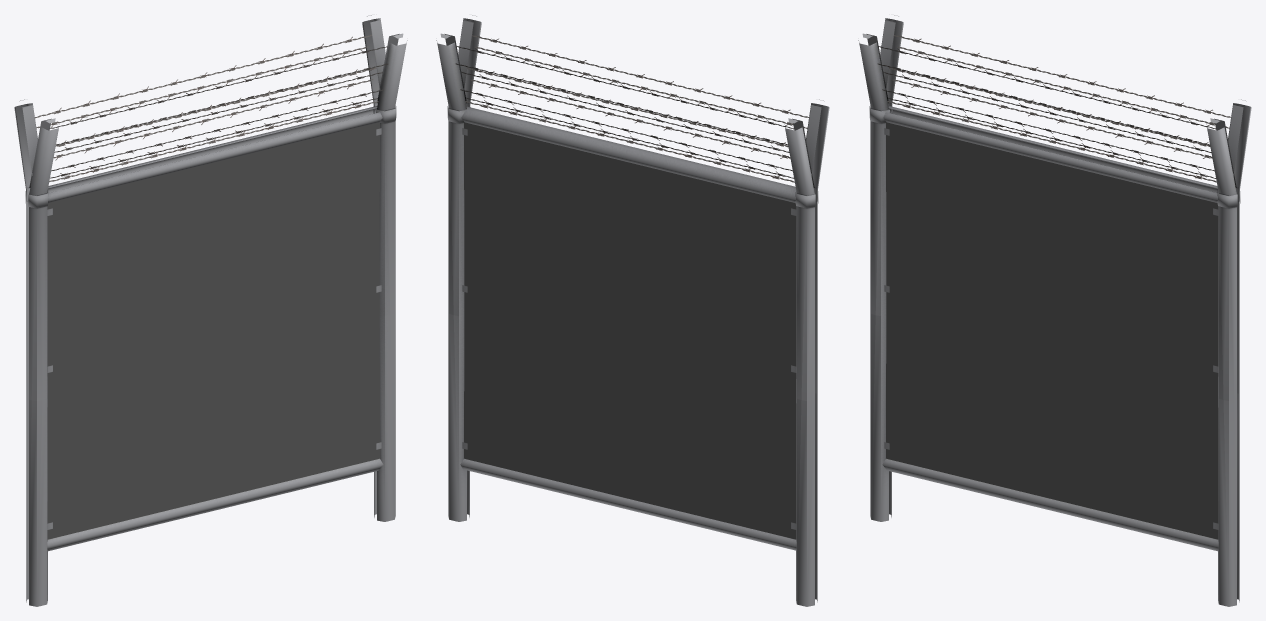
The model's file is fence chain wire A.fbx.
3 renders of one model, left to right at view 1: azimuth 30°, elevation 25°; view 2: azimuth 150°, elevation 25°; view 3: azimuth 330°, elevation 25°, orthographic.
Visible parts, largest first — view 1: fence chain wire A; view 2: fence chain wire A; view 3: fence chain wire A.
Part boxes in pixels (bbox=[...]): fence chain wire A: bbox=[14, 15, 407, 606]; fence chain wire A: bbox=[436, 15, 829, 606]; fence chain wire A: bbox=[858, 15, 1251, 606].
Size of the model in its own units: 392 by 501 by 60.89.
3 materials, 3 textured.
